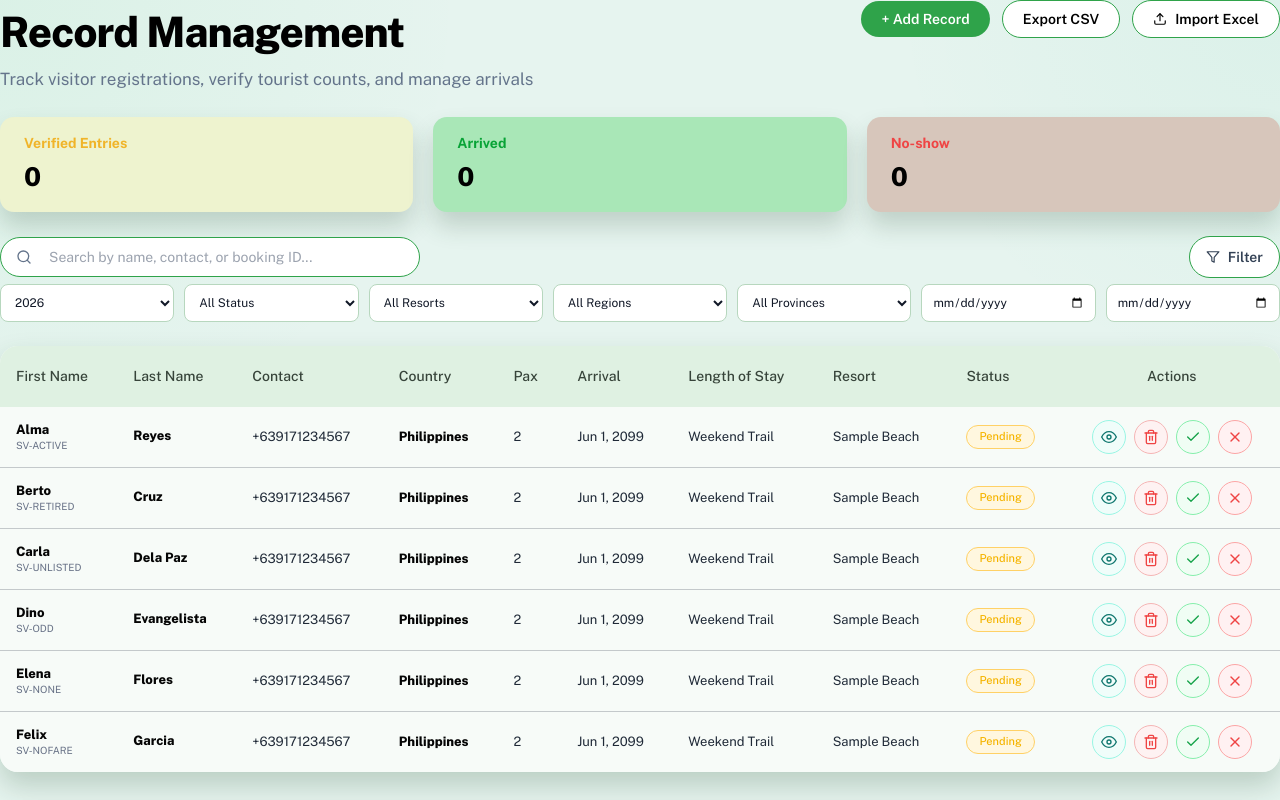
Test: b: a retired tier the record holds › stays in its place by display_order, marked '(inactive)', and is the one selected
Click the button with class "booking-icon-btn" in the row of "Berto" at (1109, 498), box [1092,480,1126,514]
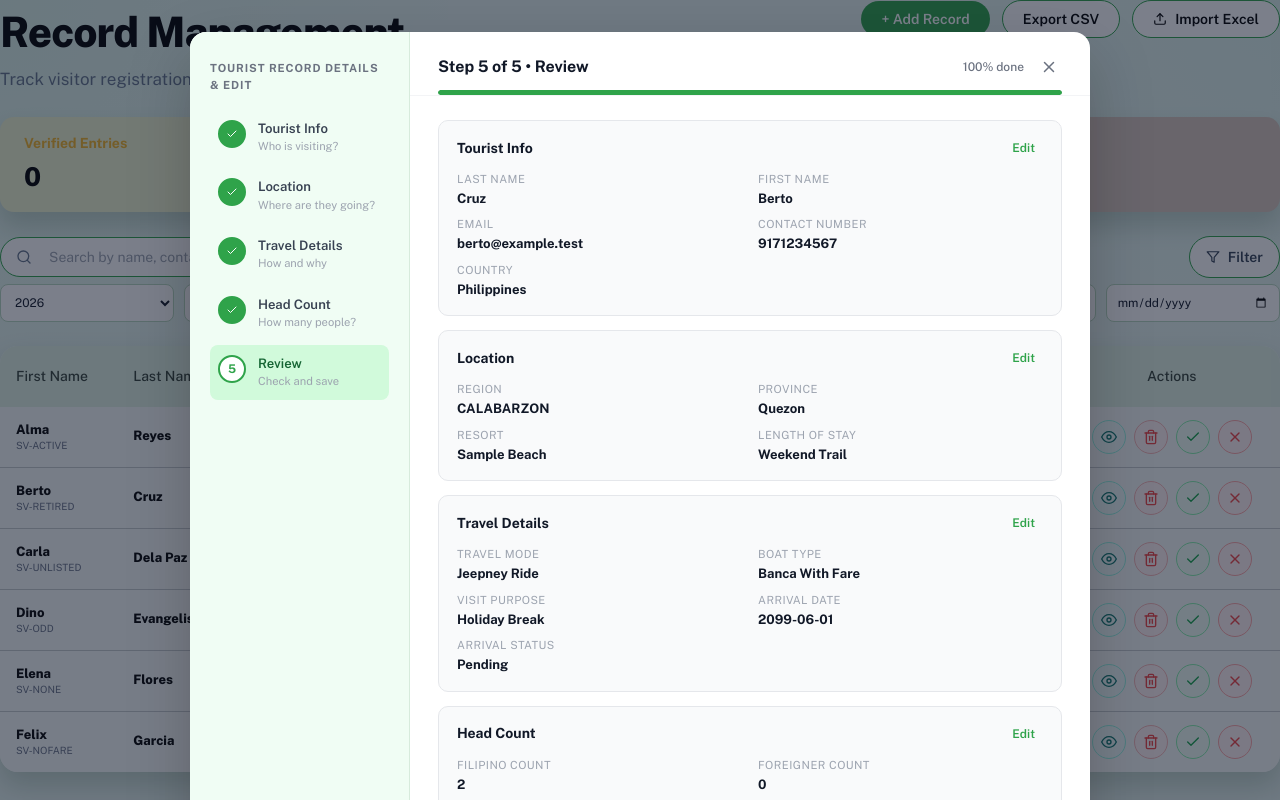
Check: the text "Tourist Record Details & Edit" is shown, box [210,60,389,94]
Click the text "Travel Details" at (280, 254), box [218,237,342,270]
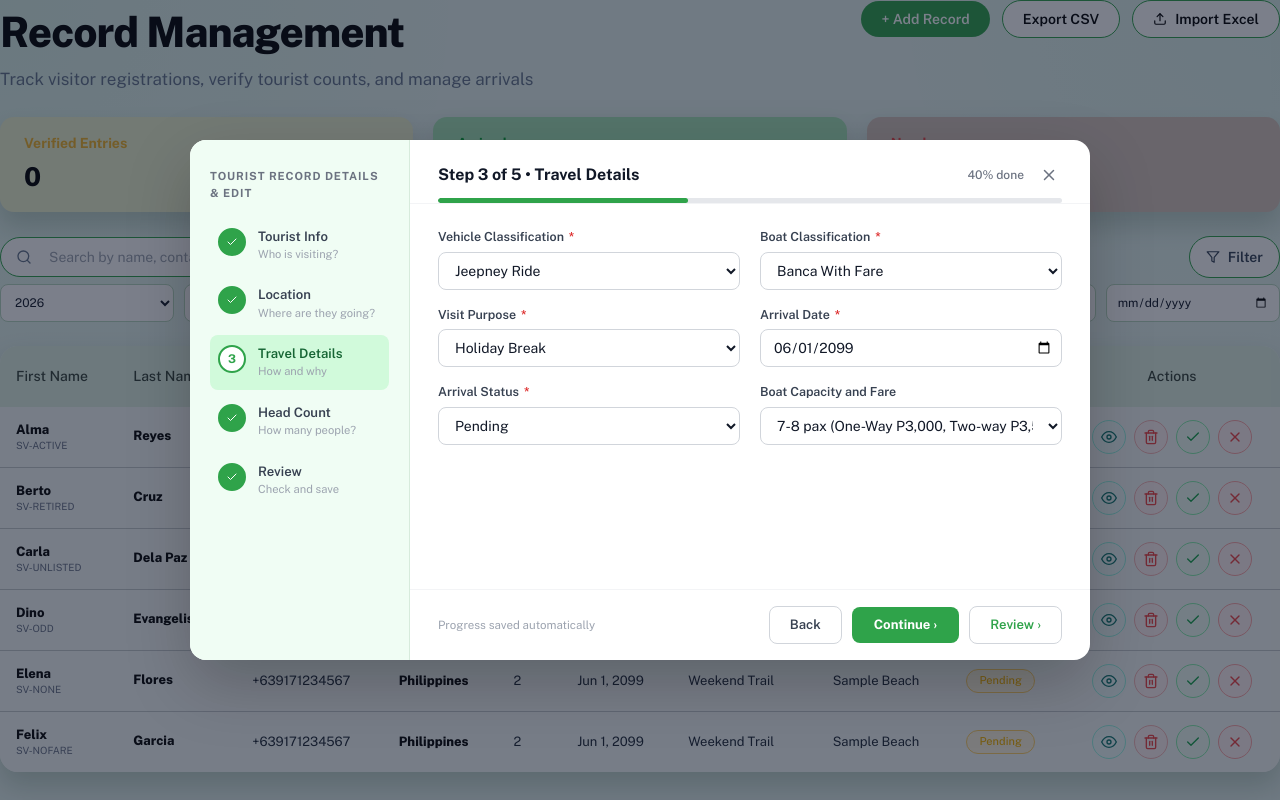
Check: the dropdown "Select capacity and fare" below "Boat Capacity and Fare" shows "7-8 pax (One-Way P3,000, Two-way P3,500) (inactive)", box [760,407,1062,445]
